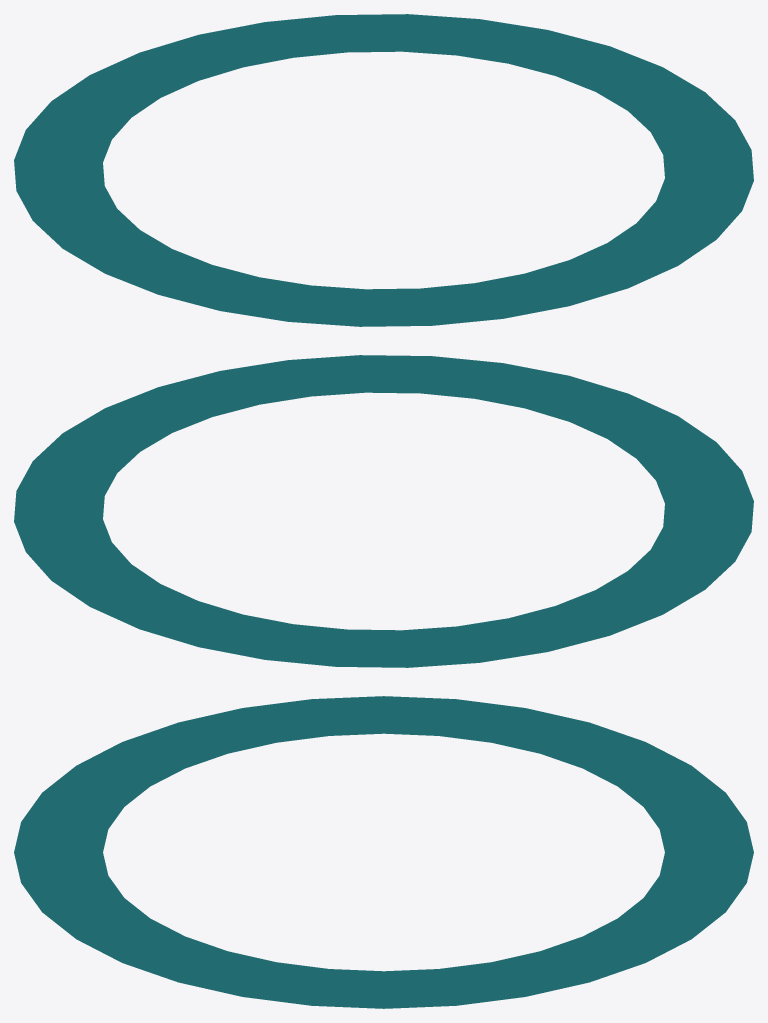
Rendered from target-c.glb.
The picture shows the model from 3 angles, top to bottom: view 1: azimuth 30°, elevation 25°; view 2: azimuth 150°, elevation 25°; view 3: azimuth 270°, elevation 25°; orthographic projection.
Visible parts, largest first — view 1: Target; view 2: Target; view 3: Target.
Part boxes in pixels (<box>): Target: <box>14,14,753,326</box>; Target: <box>14,355,753,667</box>; Target: <box>14,696,753,1008</box>.
Bounding box in the file's own units: 0.2055 × 0 × 0.2055.
Materials: 1 (1 with a texture image).
